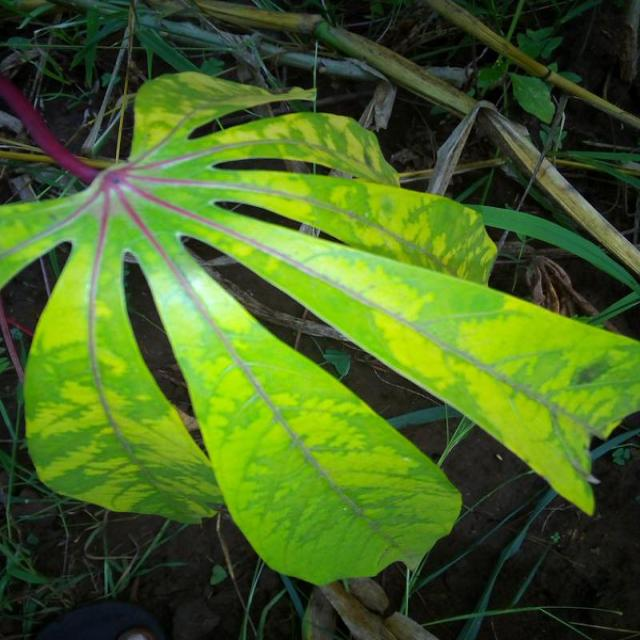cassava leaf: (1, 67, 638, 586)
